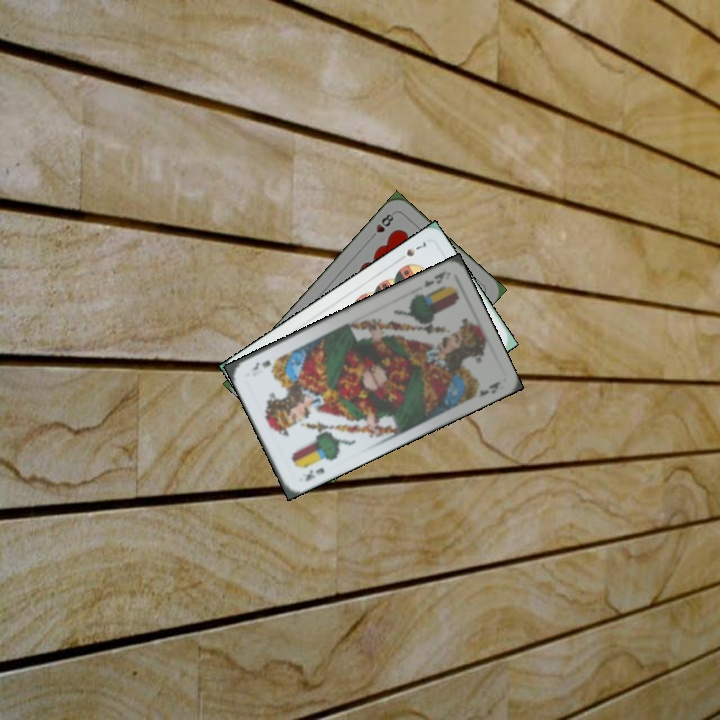EK: (419, 267, 450, 290), (301, 464, 327, 484)
H8: (366, 209, 397, 242)
S7: (402, 238, 429, 259)
